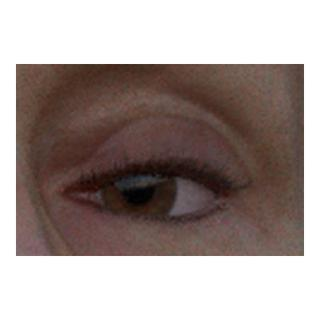pupil: (122, 173, 153, 204)
